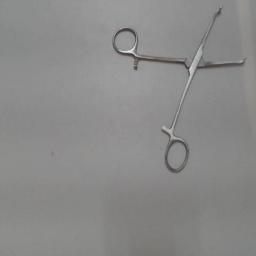Allis Tissue Forceps: (108, 0, 252, 178)
